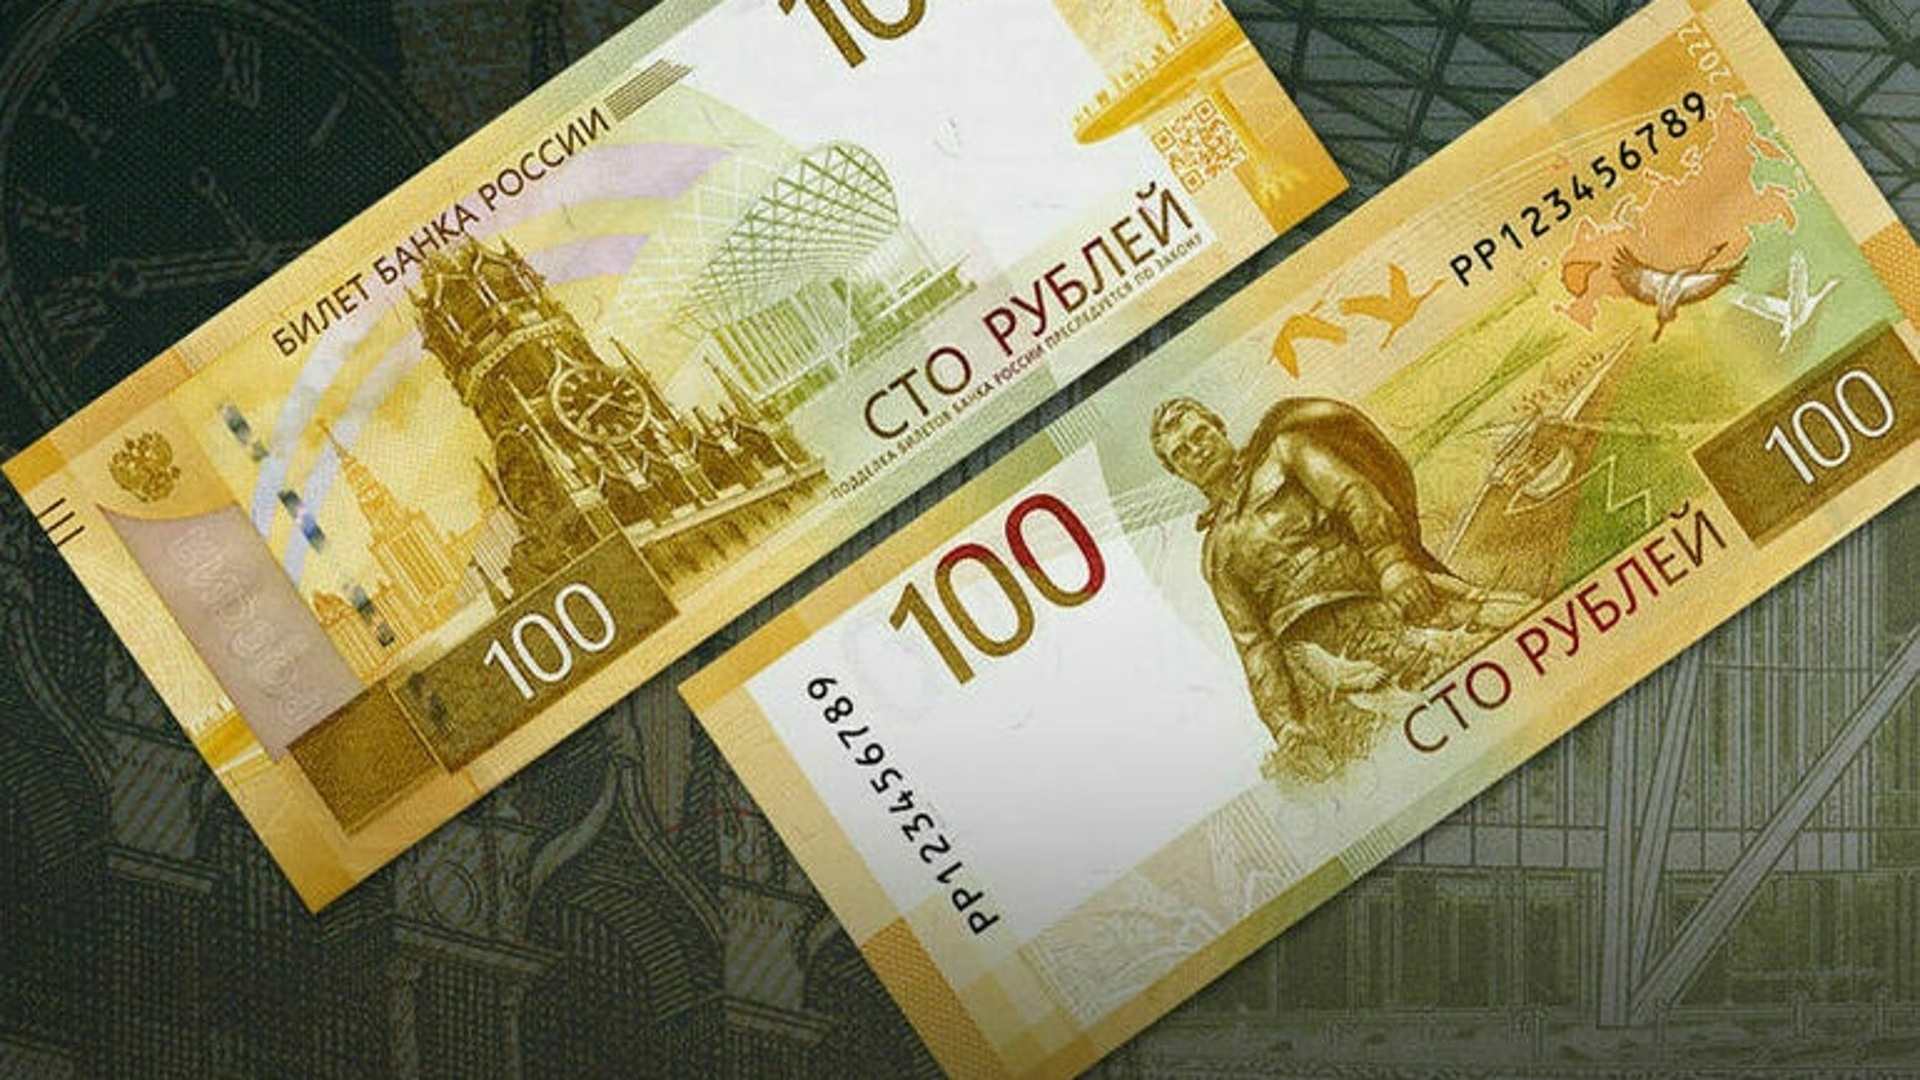cash: (674, 1, 1920, 1077), (3, 1, 1346, 914)
